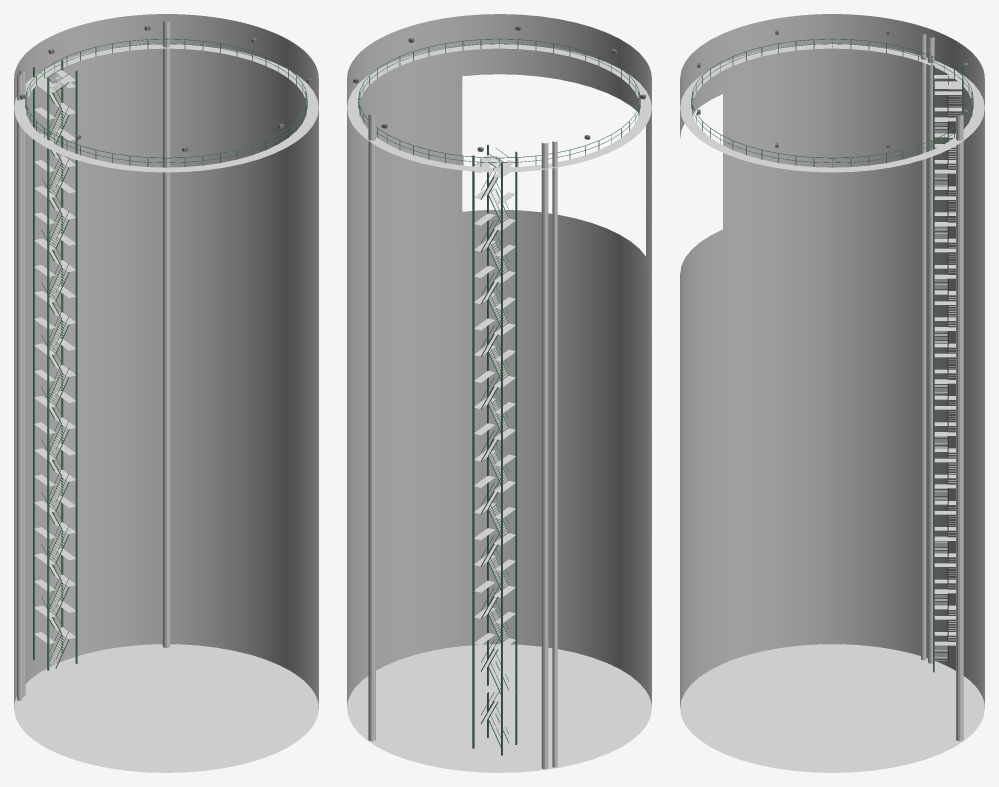
The model's file is tank_shaft1.glb.
3 renders of one model, left to right at view 1: azimuth 30°, elevation 25°; view 2: azimuth 150°, elevation 25°; view 3: azimuth 270°, elevation 25°, orthographic.
Parts seen in each view (by area): view 1: TK_Pillar, TK_Void, TK_Grate, TK_Galv, TK_Paint; view 2: TK_Pillar, TK_Void, TK_Galv, TK_Grate, TK_Paint; view 3: TK_Pillar, TK_Void, TK_Galv, TK_Grate, TK_Paint.
Boxes of the visible parts, x1,y1,x2,y2 form: TK_Pillar: [14, 14, 318, 708]; TK_Void: [14, 644, 318, 772]; TK_Grate: [14, 44, 318, 666]; TK_Galv: [17, 21, 170, 700]; TK_Paint: [25, 38, 307, 670]; TK_Pillar: [347, 14, 651, 707]; TK_Void: [347, 644, 651, 772]; TK_Galv: [368, 114, 557, 769]; TK_Grate: [347, 44, 651, 744]; TK_Paint: [358, 38, 640, 755]; TK_Pillar: [680, 14, 984, 707]; TK_Void: [680, 644, 984, 772]; TK_Galv: [921, 34, 963, 741]; TK_Grate: [680, 44, 984, 660]; TK_Paint: [691, 38, 973, 672].
Bounding box in the file's own units: 31.6 × 72.15 × 31.6.
